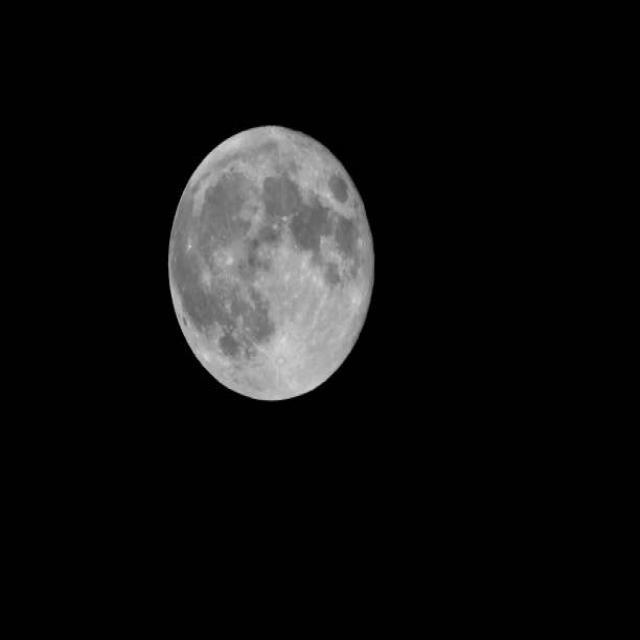moon: (166, 128, 374, 396)
